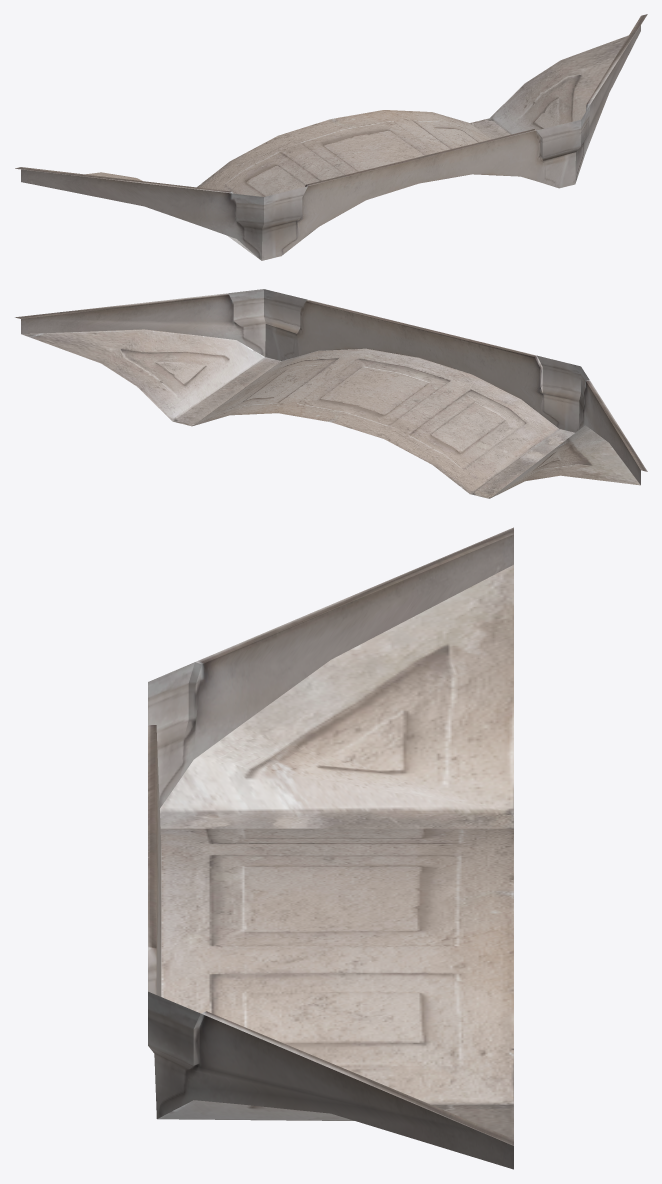
The model's file is WallBowWindowA-below.fbx.
3 renders of one model, top to bottom at view 1: azimuth 30°, elevation 25°; view 2: azimuth 150°, elevation 25°; view 3: azimuth 270°, elevation 25°, orthographic. The views are drawn at different scales.
Visible parts, largest first — view 1: WallBowWindowA-below; view 2: WallBowWindowA-below; view 3: WallBowWindowA-below.
Boxes of the visible parts, x1,y1,x2,y2 form: WallBowWindowA-below: (15,14,647,260); WallBowWindowA-below: (15,289,647,498); WallBowWindowA-below: (148,527,513,1169).
Bounding box in the file's own units: 400 × 39.56 × 100.
